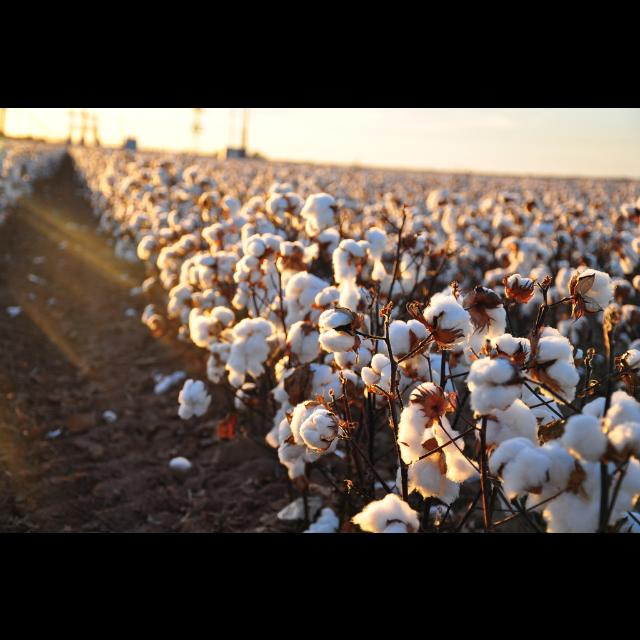Flower: (1, 144, 640, 532), (288, 402, 350, 462)
